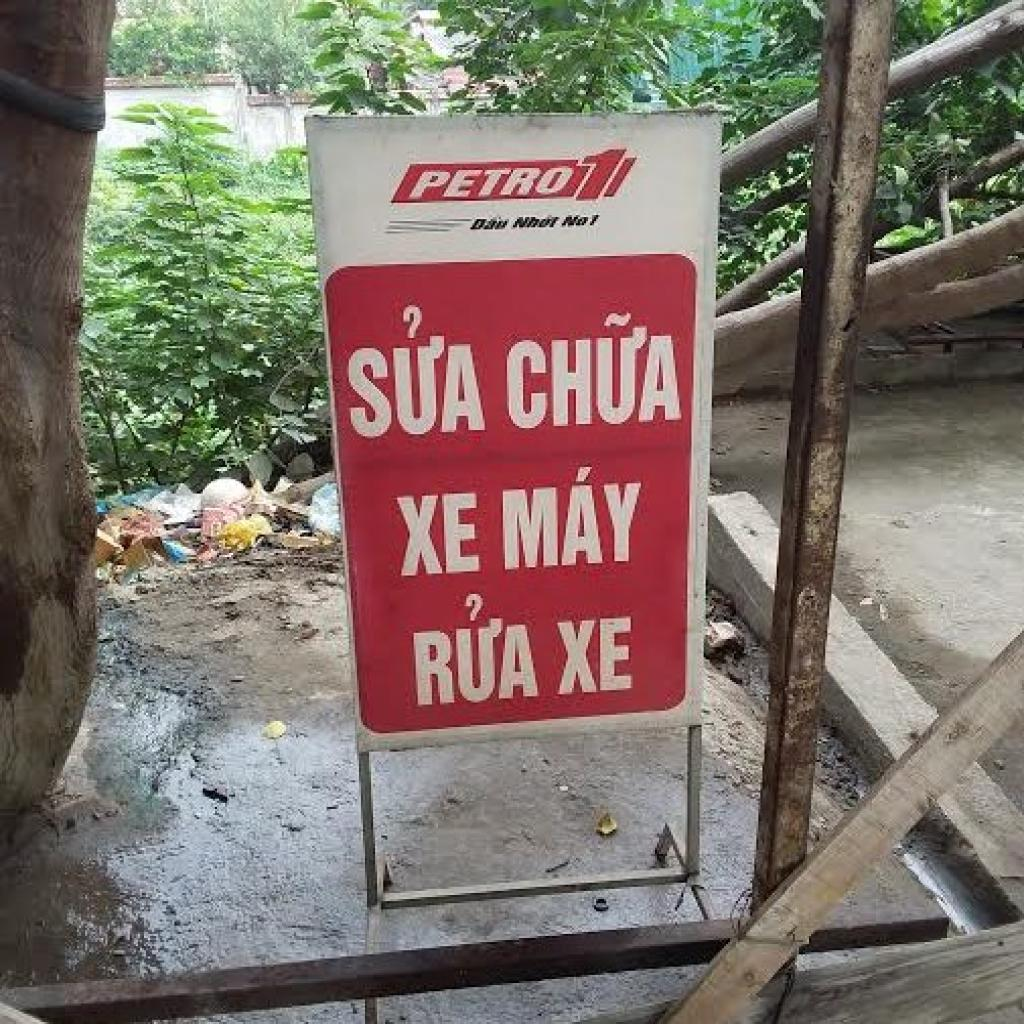text: (503, 307, 687, 436), (344, 299, 492, 442), (499, 463, 651, 575), (410, 586, 546, 710), (391, 490, 485, 582), (405, 166, 580, 201), (566, 147, 630, 203), (509, 213, 564, 231), (466, 213, 515, 233), (560, 213, 594, 229), (586, 213, 606, 229)
